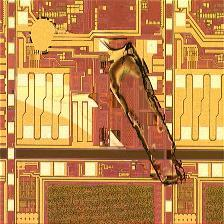PARTICLE: (13, 18, 188, 188)
